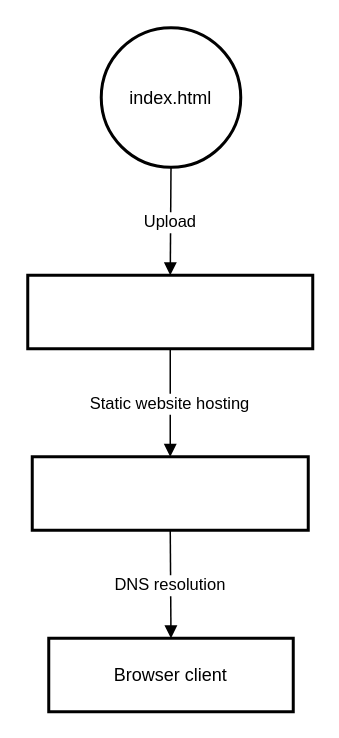
Image size: 339x738. Some labels were removed from this diagram. The shapes that lost their labels are listed below. From the top down, each one's box as (x1, y1, x2, y2) in pixels, then its label:
(26, 273, 314, 350): Amazon S3 bucket
(30, 454, 309, 531): Amazon Route 53
